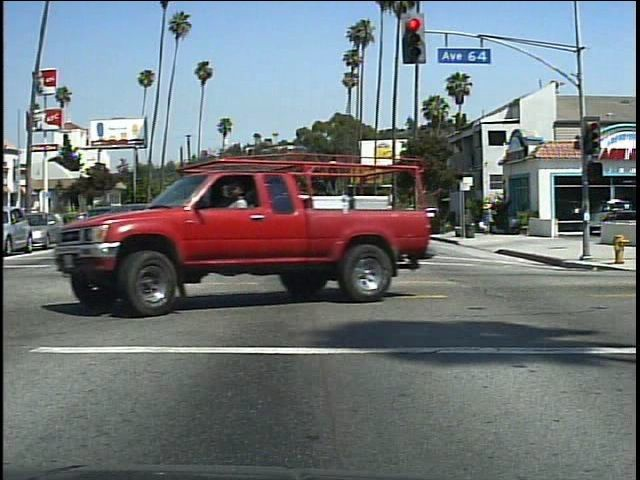person: (223, 176, 264, 300), (481, 200, 498, 236)
